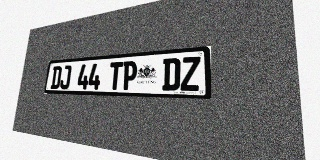4: (88, 63, 102, 90), (77, 64, 90, 89)
D: (162, 58, 181, 91), (50, 66, 62, 89)
J: (59, 65, 72, 89)
P: (121, 61, 138, 90)
T: (108, 62, 123, 90)
Z: (180, 56, 200, 91)
